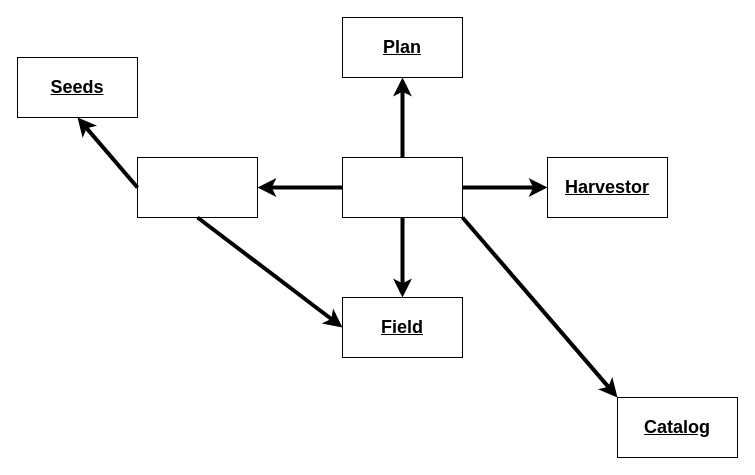
Some shapes in this 755 by 475 pixel diagram are drawn without their labels. The box of each missing label's shape, as (x1, y1, x2, y2) in pixels:
Main: (342, 156, 462, 218)
Tractor: (136, 156, 258, 218)
